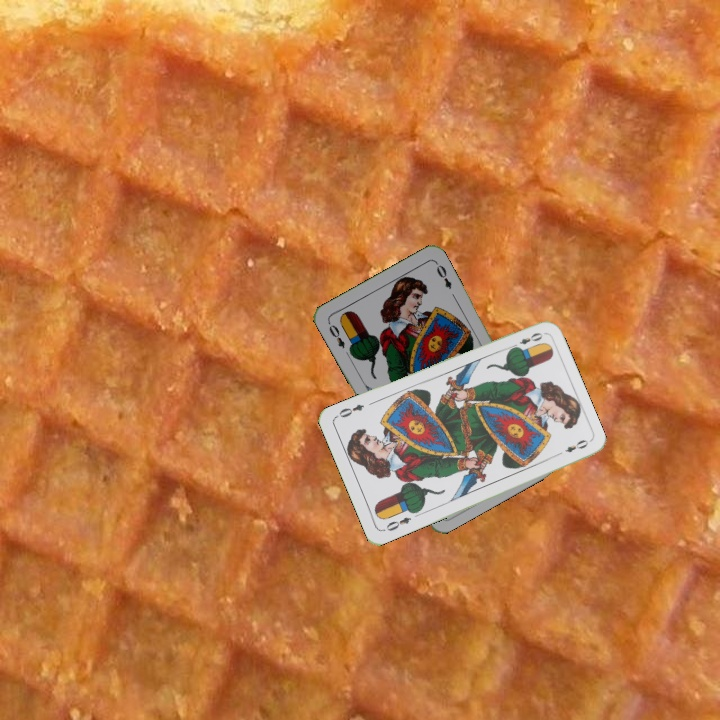EO: (507, 328, 545, 351), (324, 318, 347, 351), (382, 513, 414, 533)
